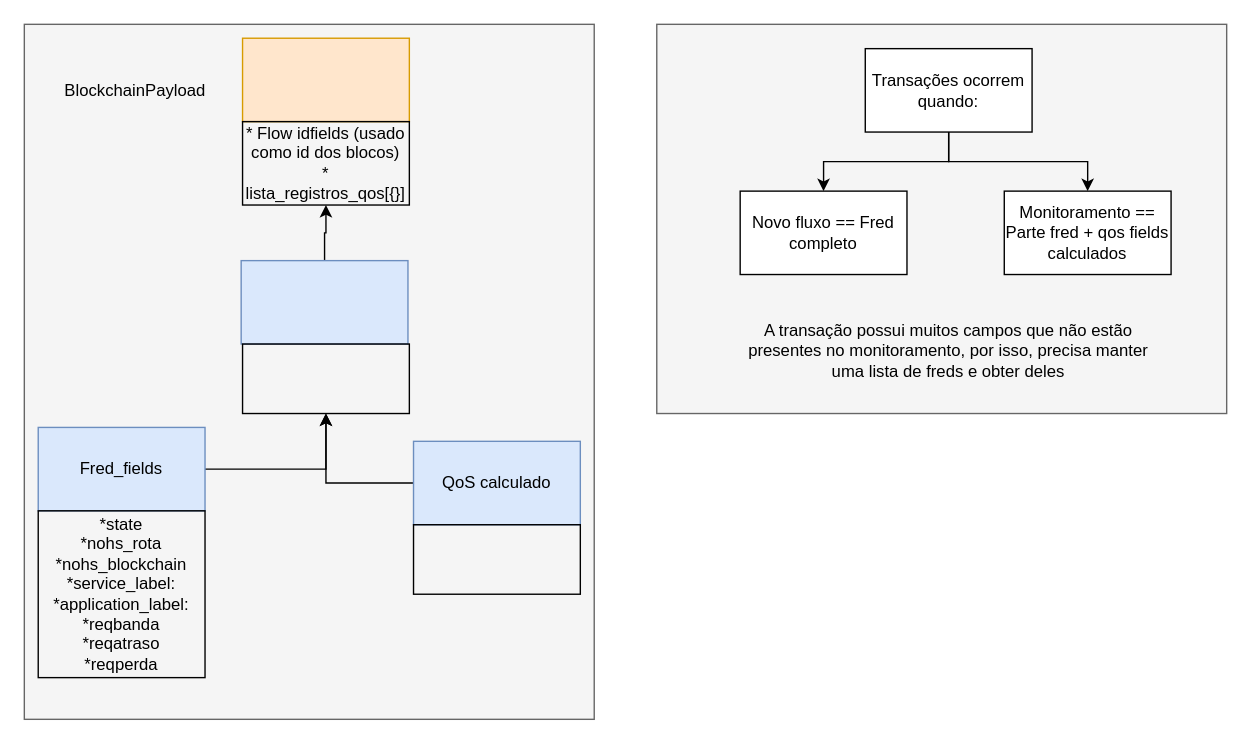
Some shapes in this 1251 by 744 pixel diagram are drawn without their labels. The shapes that lost their labels are listed below. From the top down, each one's centre as x and y in pixels, then its label:
At (x=325, y=79): "blockchain".
At (x=324, y=301): "RegistroQoS".
At (x=325, y=378): "* Quem calculou * Fred_fields * qos calculado".
At (x=496, y=558): "banda atraso perda".
